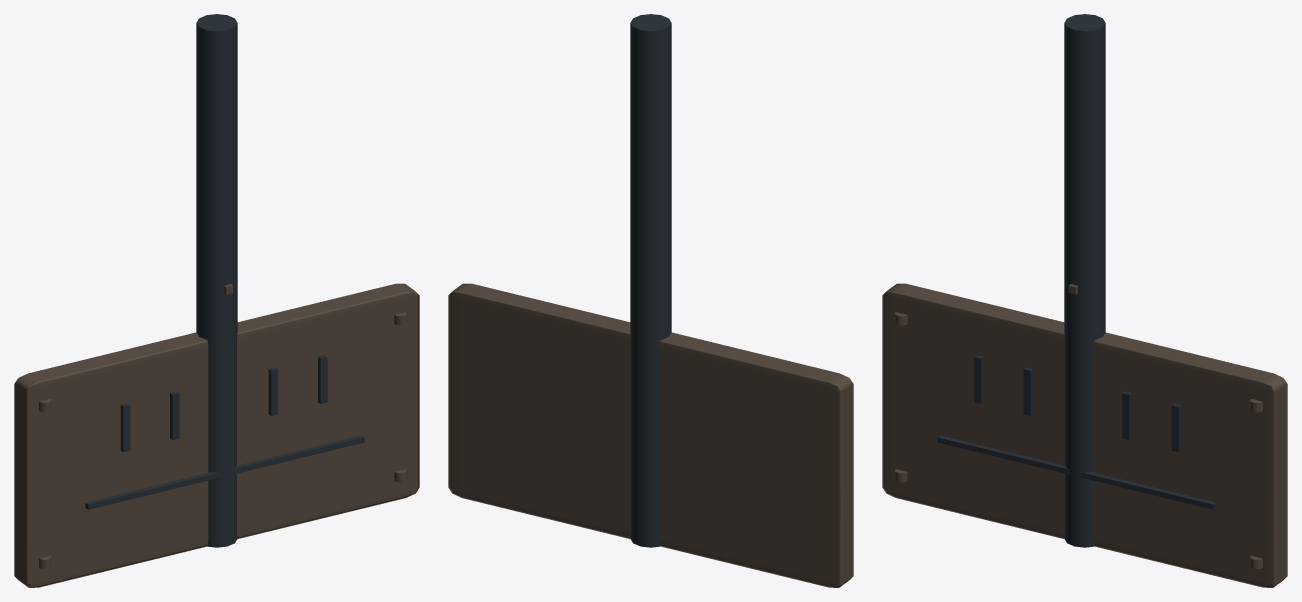
Rendered from sign-1.glb.
3 views of the same model, side by side, from view 1: azimuth 30°, elevation 25°; view 2: azimuth 150°, elevation 25°; view 3: azimuth 330°, elevation 25° (orthographic).
Parts seen in each view (by area): view 1: sign/0/KR-230-1; view 2: sign/0/KR-230-1; view 3: sign/0/KR-230-1.
Boxes of the visible parts, x1,y1,x2,y2 form: sign/0/KR-230-1: [14, 14, 419, 587]; sign/0/KR-230-1: [448, 14, 853, 587]; sign/0/KR-230-1: [882, 14, 1287, 587].
Size of the model in its own units: 2 by 2.5 by 0.202.
